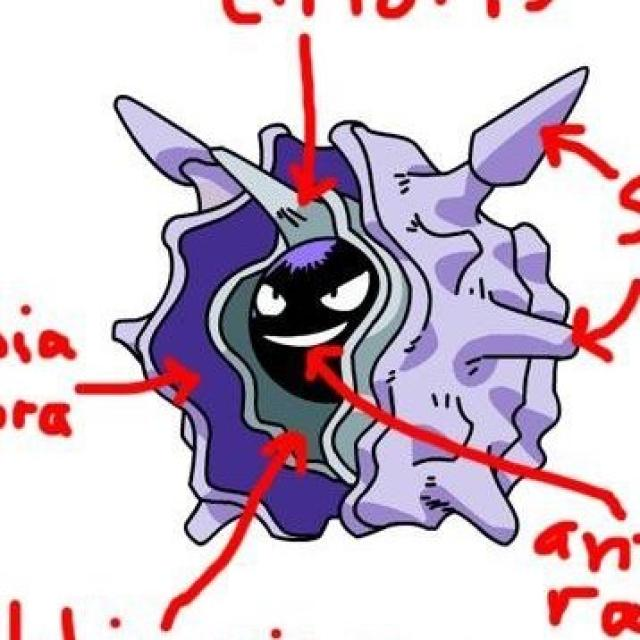Cloyster: (145, 130, 561, 546)
